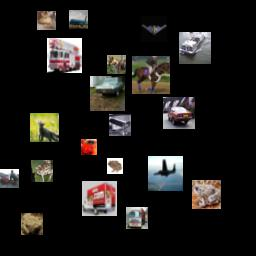airplane: (148, 156, 183, 191), (141, 16, 167, 42), (109, 114, 131, 136), (69, 10, 88, 29)
automobile: (90, 76, 125, 111), (163, 97, 195, 129), (81, 139, 97, 155)
cat: (30, 113, 59, 142), (37, 11, 56, 30)
dog: (107, 55, 126, 74)
frog: (192, 180, 221, 209), (31, 160, 53, 182), (21, 213, 43, 235), (107, 158, 123, 174)
ship: (179, 32, 211, 64)
truck: (82, 181, 117, 216), (47, 38, 82, 73), (126, 207, 148, 229), (0, 169, 19, 188)
